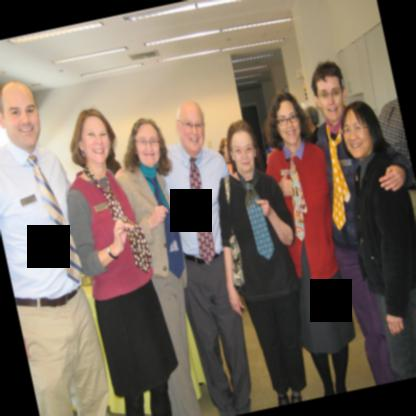handbag: (223, 175, 244, 293)
